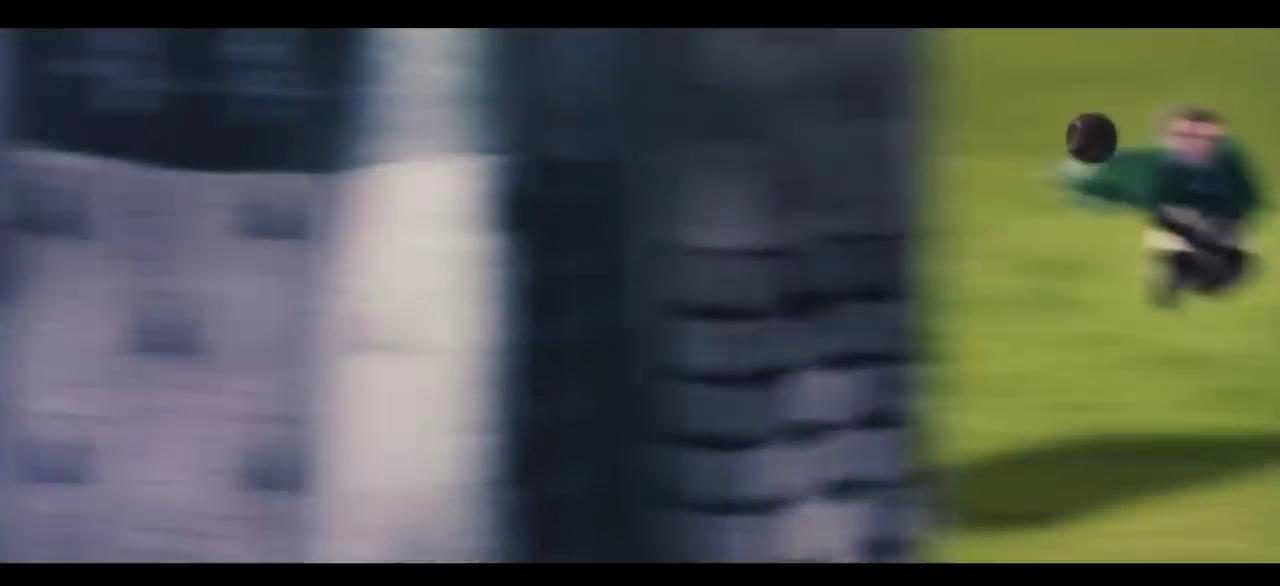quaffle: (1064, 111, 1117, 164)
